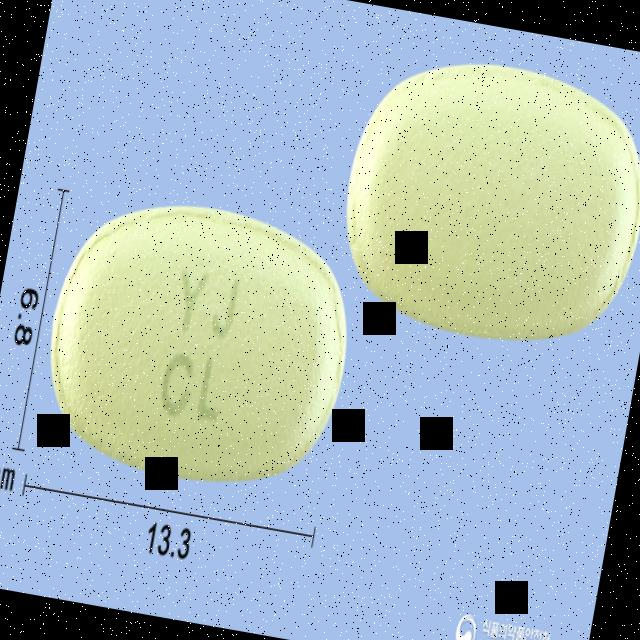Clacid -500mg: (27, 179, 376, 510)
